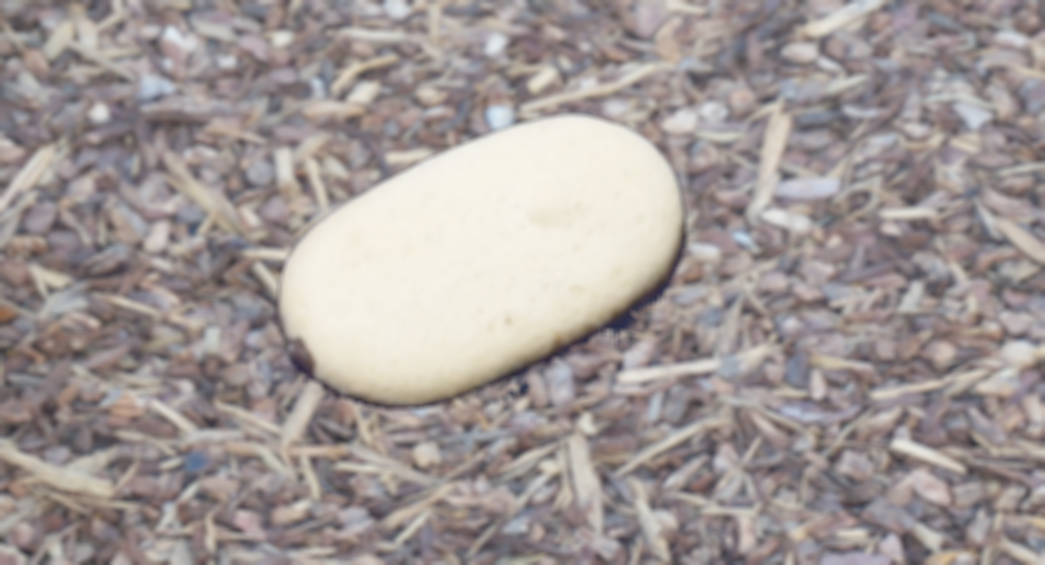test: (240, 41, 719, 512)
